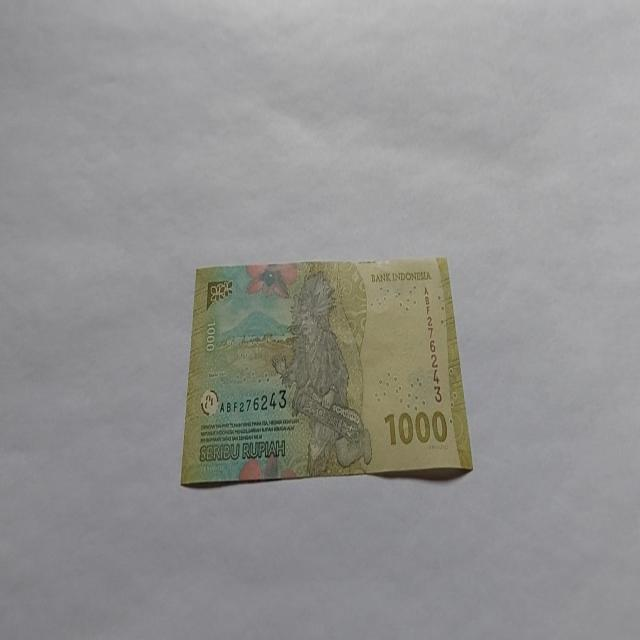seribu rupiah kertas: (179, 255, 473, 487)
